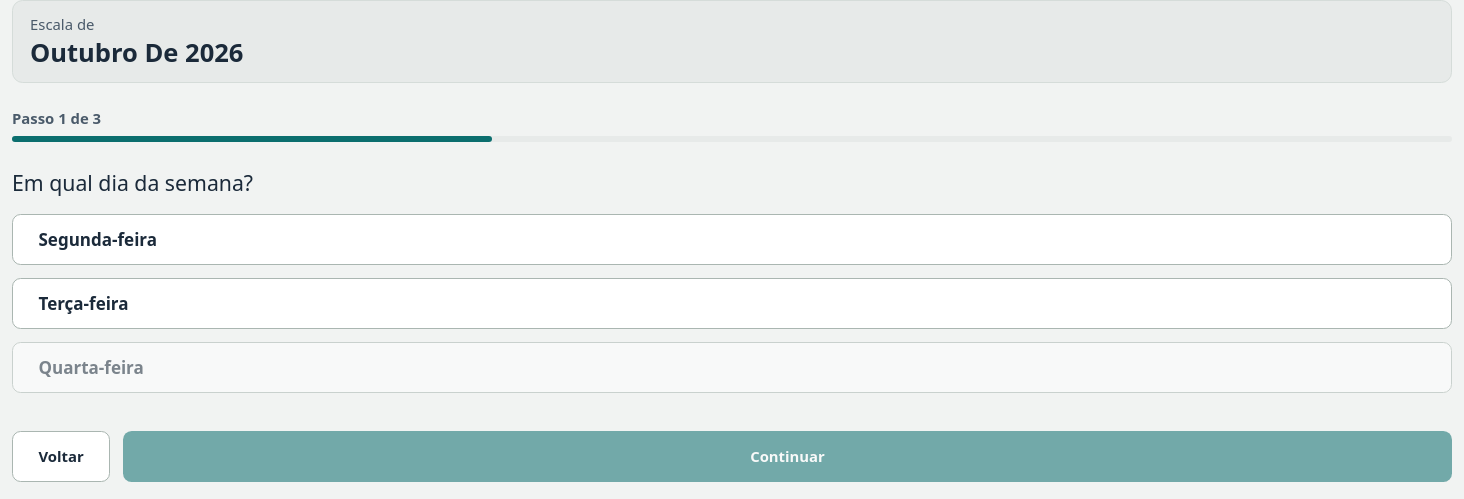
Scenario: SolicitacaoWizard — dia, depois turno, depois carrinho › mostra só os carrinhos com aquele dia e turno e desabilita o cheio, com 'Cheio'
Expected: the heading "Em qual dia da semana?" is shown, [12,168,253,197]
What coordinates should you click on to do the following:
click the radio button labelled "Segunda-feira"
I would click on:
 (98, 240)
Its box is [12,214,1452,266].
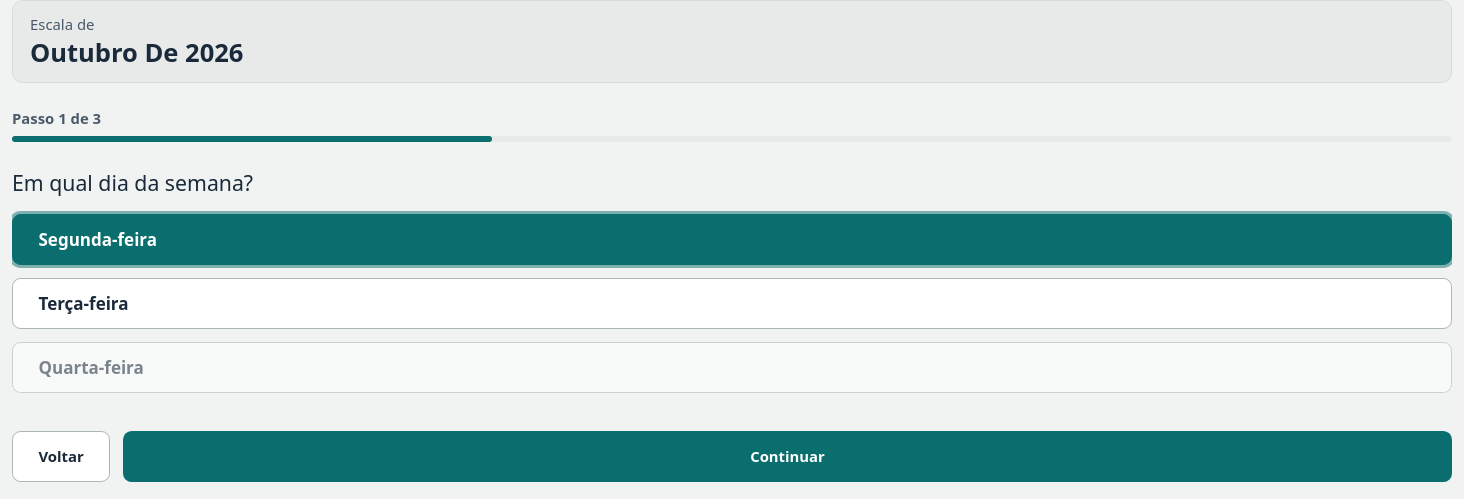
What coordinates should you click on to do the following:
click the button "Continuar"
I would click on:
 (788, 456)
Its box is [123,431,1452,482].
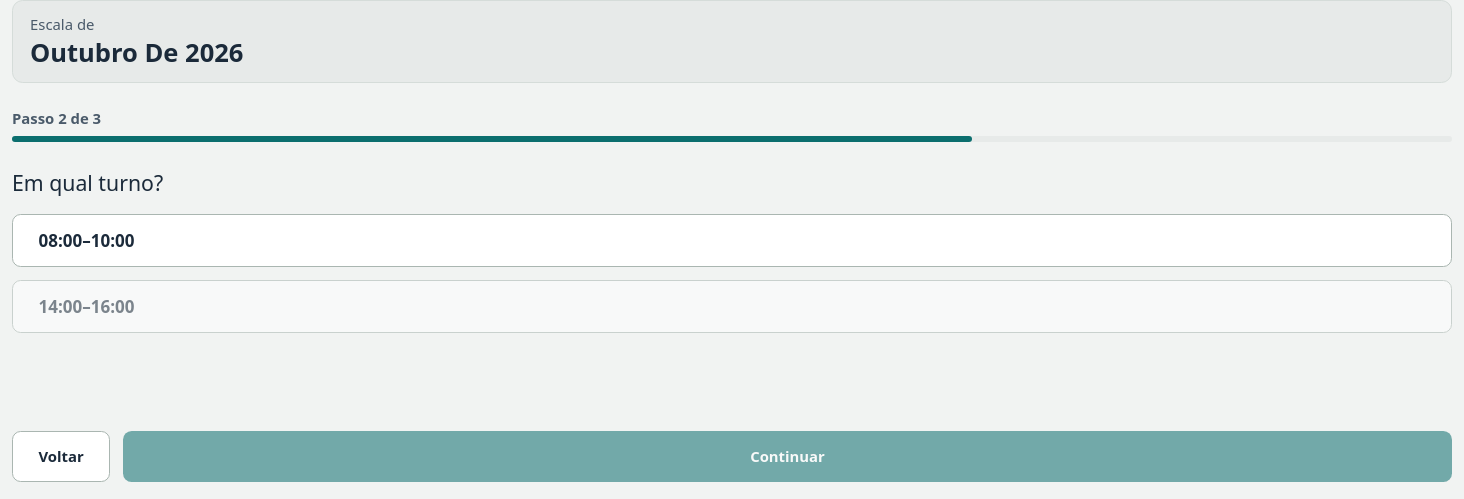
Expected: the heading "Em qual turno?" is shown, [12,168,163,197]
What coordinates should you click on to do the following:
click the radio button labelled "08:00–10:00"
I would click on:
 (60, 241)
Its box is [12,214,1452,268].
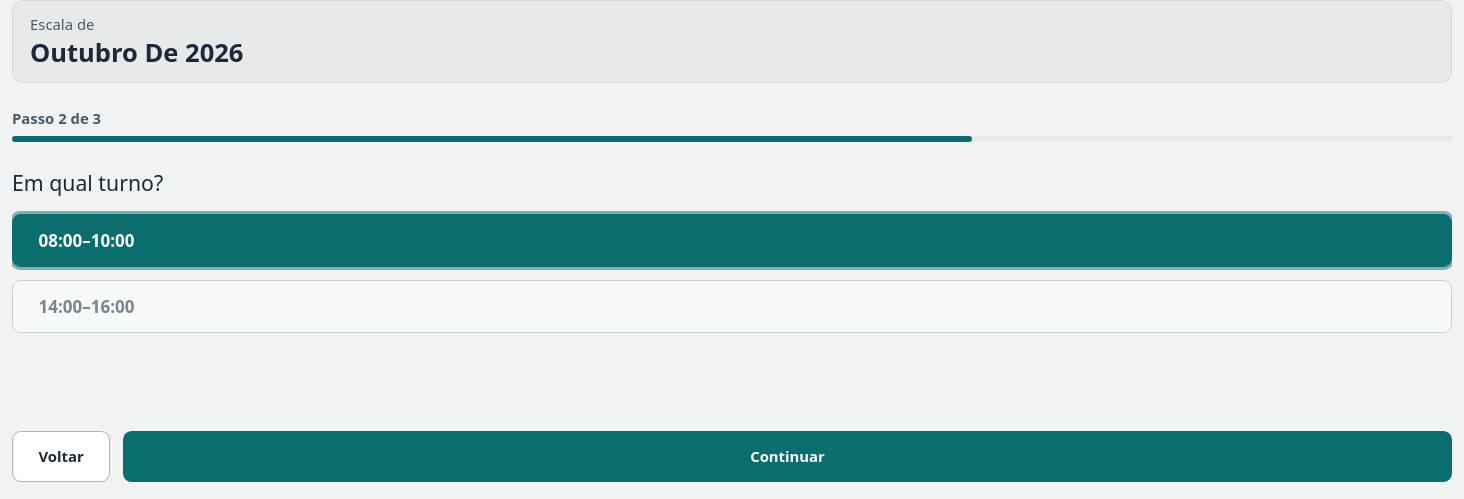
What coordinates should you click on to do the following:
click the button "Continuar"
I would click on:
 (788, 456)
Its box is [123,431,1452,482].
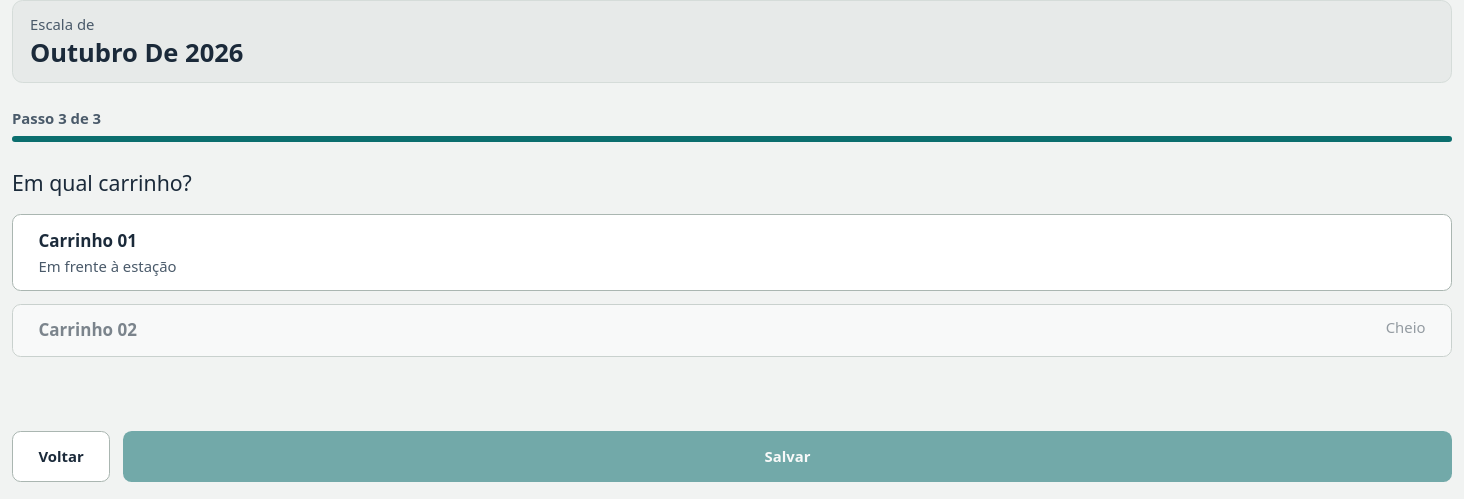
Expected: the number of radio buttons is 2, [12,214,1452,291]; [12,304,1452,357]
Expected: the heading "Em qual carrinho?" is shown, [12,168,192,197]
Expected: the radio button labelled "Carrinho 01 Em frente à estação" is shown, [12,214,1452,291]
